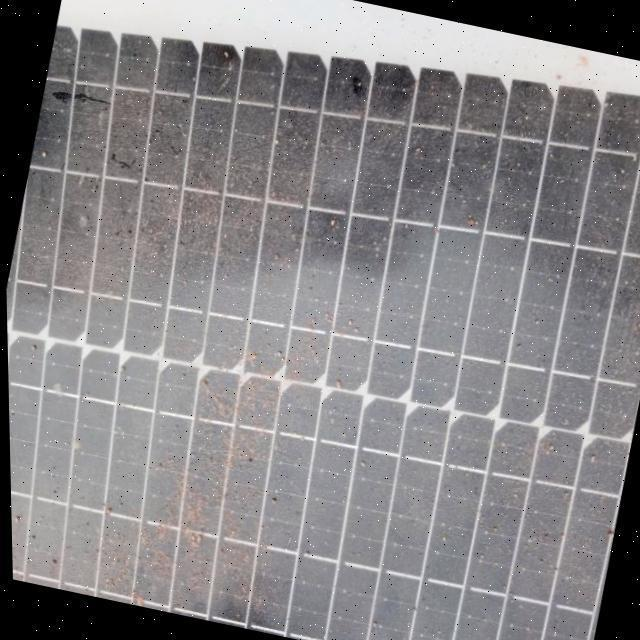Surface Contaminant: (5, 0, 640, 640)
